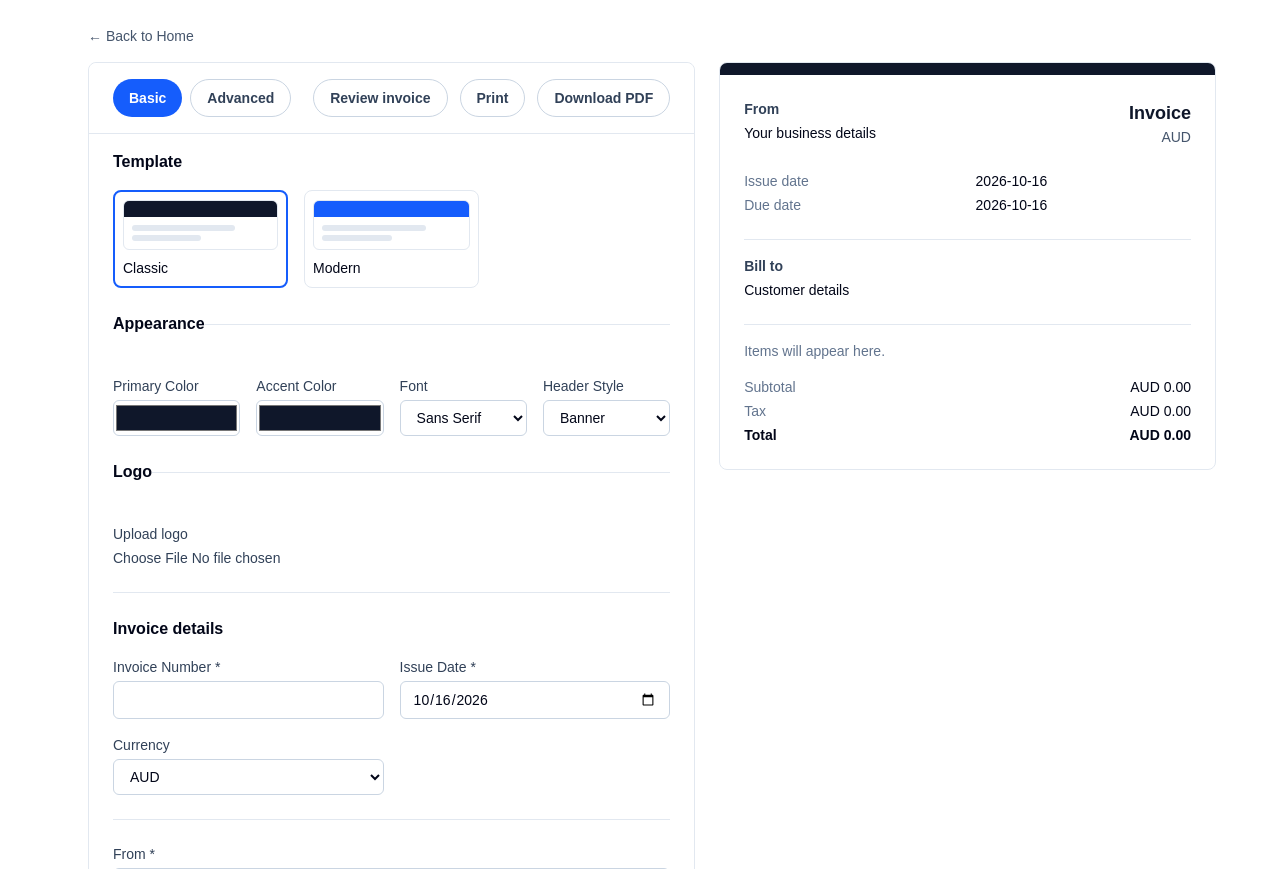
Test: CreateInvoiceEditor › clears a field's error as soon as it's corrected, without waiting for another blur
This screenshot has width=1280, height=869.
Click the field labelled "Invoice Number *" at (248, 700), box [113,681,384,719]
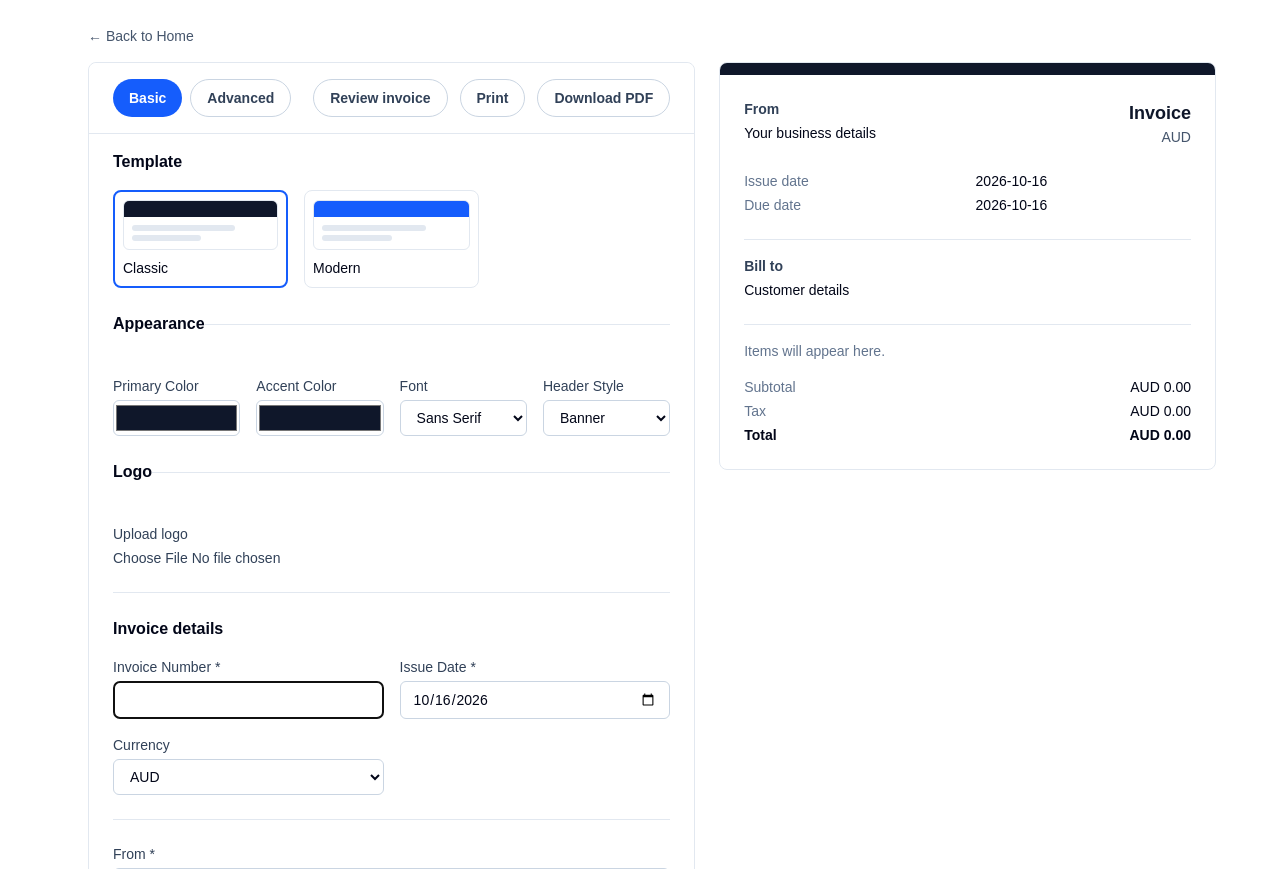
Press Tab
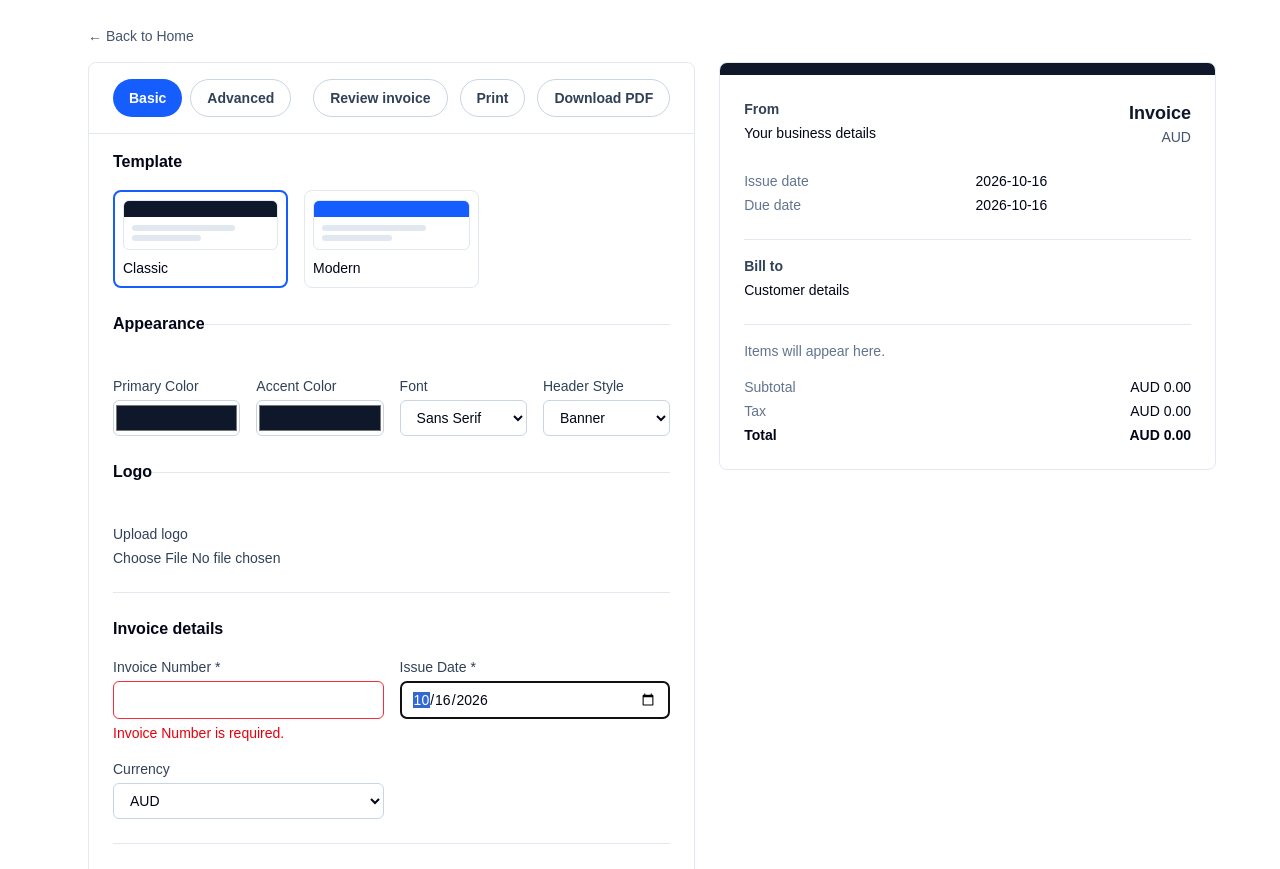
Result: the text "Invoice Number is required." is shown at [113,725,284,741]
Type "INV-000001" into the field labelled "Invoice Number *" at (248, 700), box [113,681,384,719]
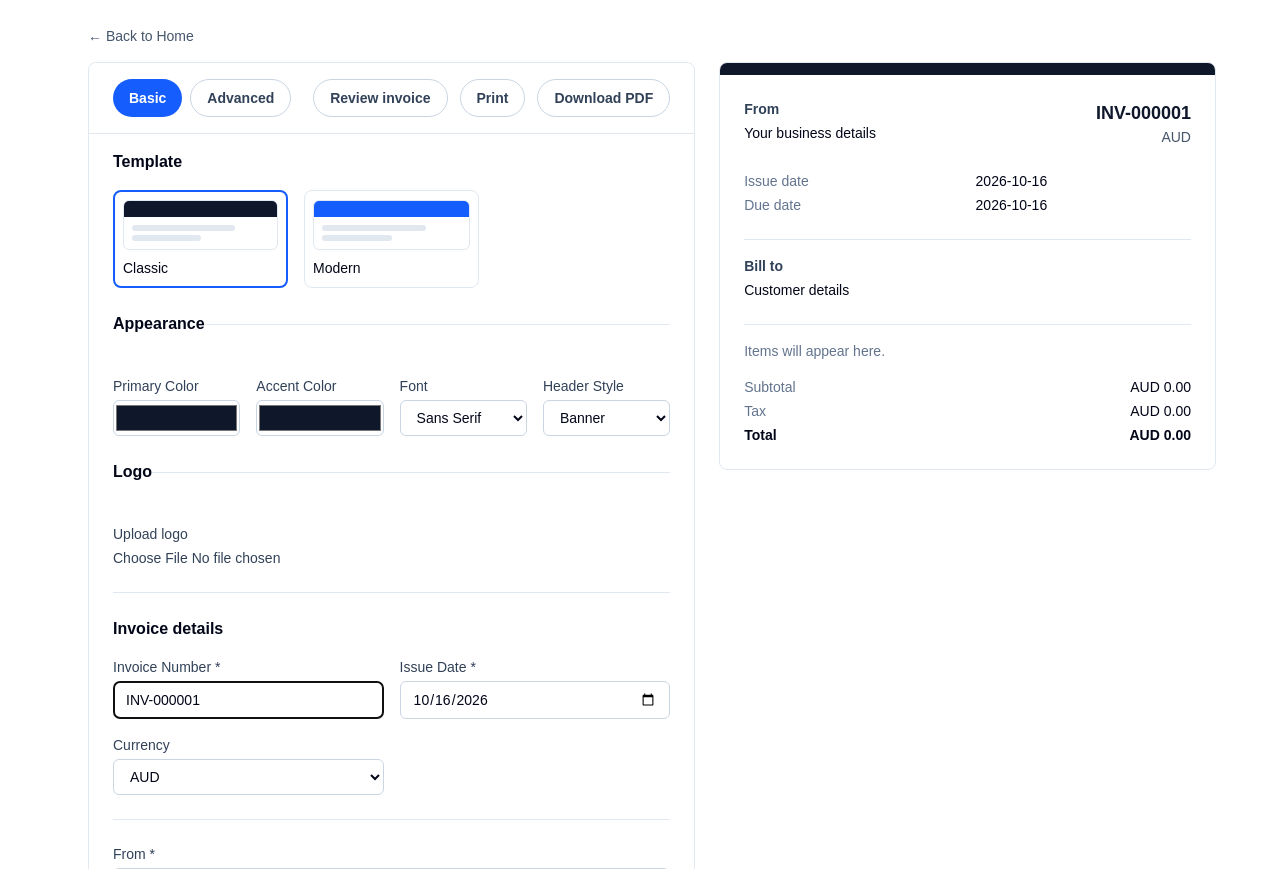
Result: the text "Invoice Number is required." is gone
